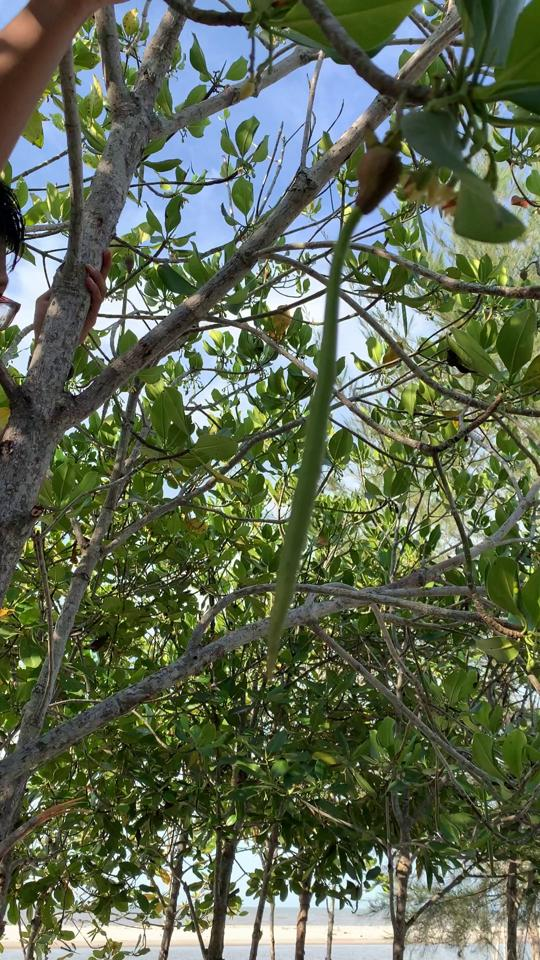mentah: (248, 121, 408, 692)
